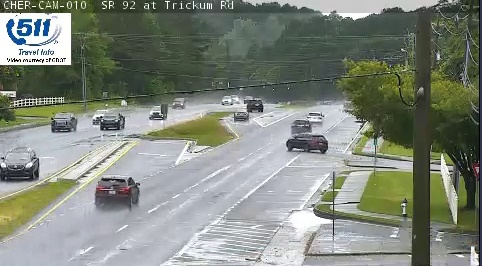car: (95, 175, 140, 205), (290, 119, 310, 134), (307, 111, 323, 125)
